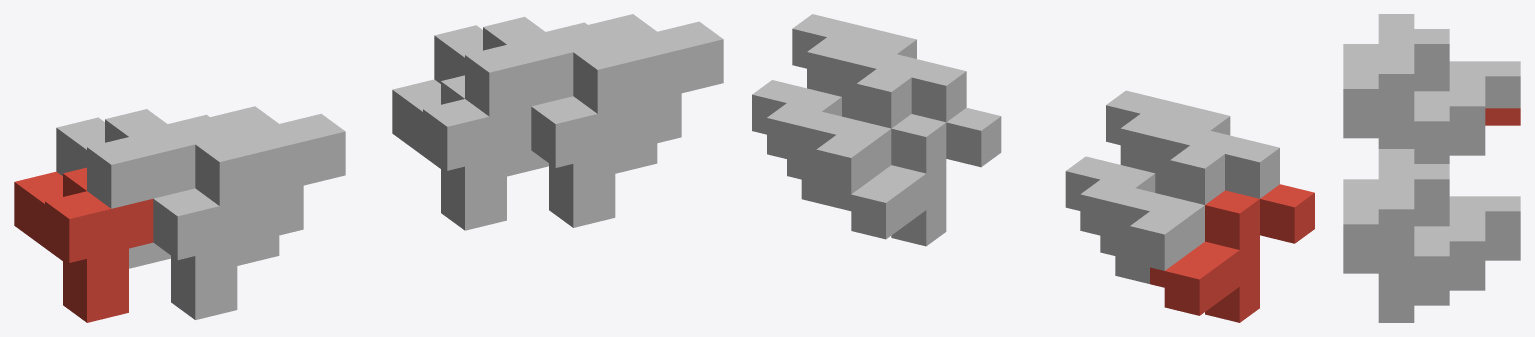
Rendered from tiling.obj.
The picture shows the model from 3 angles, left to right: view 1: azimuth 30°, elevation 25°; view 2: azimuth 150°, elevation 25°; view 3: azimuth 270°, elevation 25°; orthographic projection. The views are drawn at different scales.
Parts seen in each view (by area): view 1: copy_1_domain_5, copy_1_domain_1, copy_1_domain_3, copy_1_domain_7, copy_1_domain_8, copy_1_domain_4, copy_1_domain_6, copy_1_domain_2; view 2: copy_1_domain_7, copy_1_domain_3, copy_1_domain_5, copy_1_domain_1, copy_1_domain_4, copy_1_domain_8, copy_1_domain_6, copy_1_domain_2; view 3: copy_1_domain_8, copy_1_domain_4, copy_1_domain_7, copy_1_domain_3, copy_1_domain_6, copy_1_domain_2, copy_1_domain_1, copy_1_domain_5.
Boxes of the visible parts, x1=… form: copy_1_domain_5: x1=392, y1=75, x2=531, y2=230; copy_1_domain_1: x1=14, y1=167, x2=153, y2=322; copy_1_domain_3: x1=56, y1=109, x2=236, y2=268; copy_1_domain_7: x1=434, y1=16, x2=614, y2=176; copy_1_domain_8: x1=546, y1=14, x2=723, y2=173; copy_1_domain_4: x1=168, y1=106, x2=345, y2=265; copy_1_domain_6: x1=531, y1=93, x2=681, y2=227; copy_1_domain_2: x1=153, y1=185, x2=303, y2=319; copy_1_domain_7: x1=801, y1=46, x2=966, y2=194; copy_1_domain_3: x1=1115, y1=122, x2=1279, y2=270; copy_1_domain_5: x1=836, y1=107, x2=1001, y2=246; copy_1_domain_1: x1=1150, y1=184, x2=1314, y2=322; copy_1_domain_4: x1=1065, y1=90, x2=1230, y2=238; copy_1_domain_8: x1=752, y1=14, x2=916, y2=162; copy_1_domain_6: x1=787, y1=97, x2=856, y2=207; copy_1_domain_2: x1=1100, y1=173, x2=1169, y2=283; copy_1_domain_8: x1=1343, y1=179, x2=1485, y2=305; copy_1_domain_4: x1=1343, y1=44, x2=1485, y2=153; copy_1_domain_7: x1=1378, y1=149, x2=1520, y2=243; copy_1_domain_3: x1=1378, y1=14, x2=1520, y2=108; copy_1_domain_6: x1=1343, y1=256, x2=1485, y2=322; copy_1_domain_2: x1=1343, y1=121, x2=1485, y2=163; copy_1_domain_1: x1=1485, y1=108, x2=1520, y2=125; copy_1_domain_5: x1=1485, y1=243, x2=1520, y2=260.
Bounding box in the file's own units: 15 × 4 × 5.
